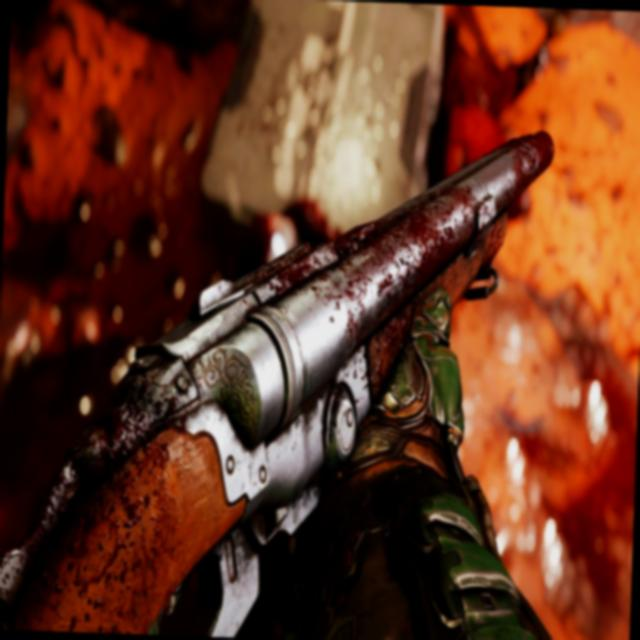shotgun: (0, 92, 560, 640)
